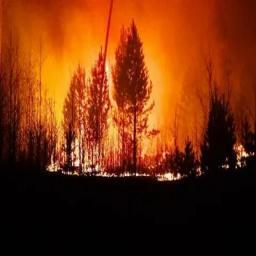Large fire: (0, 1, 256, 180)
